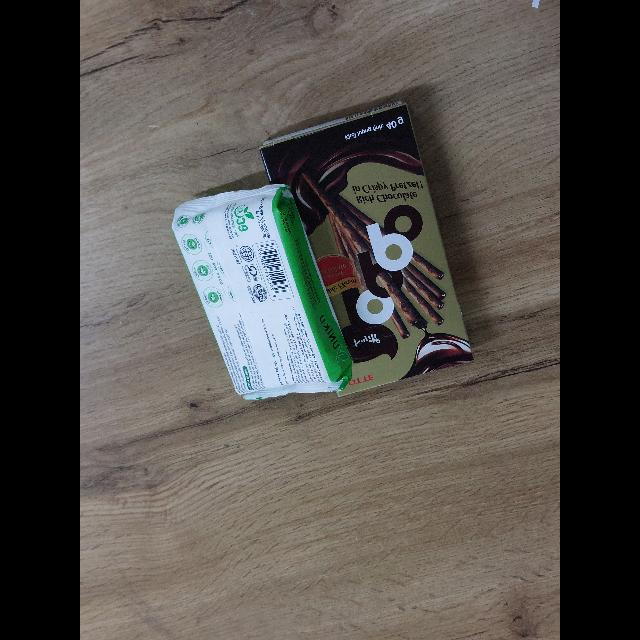banh_toppo_socola: (260, 101, 473, 396)
khan_giay: (172, 184, 352, 399)
